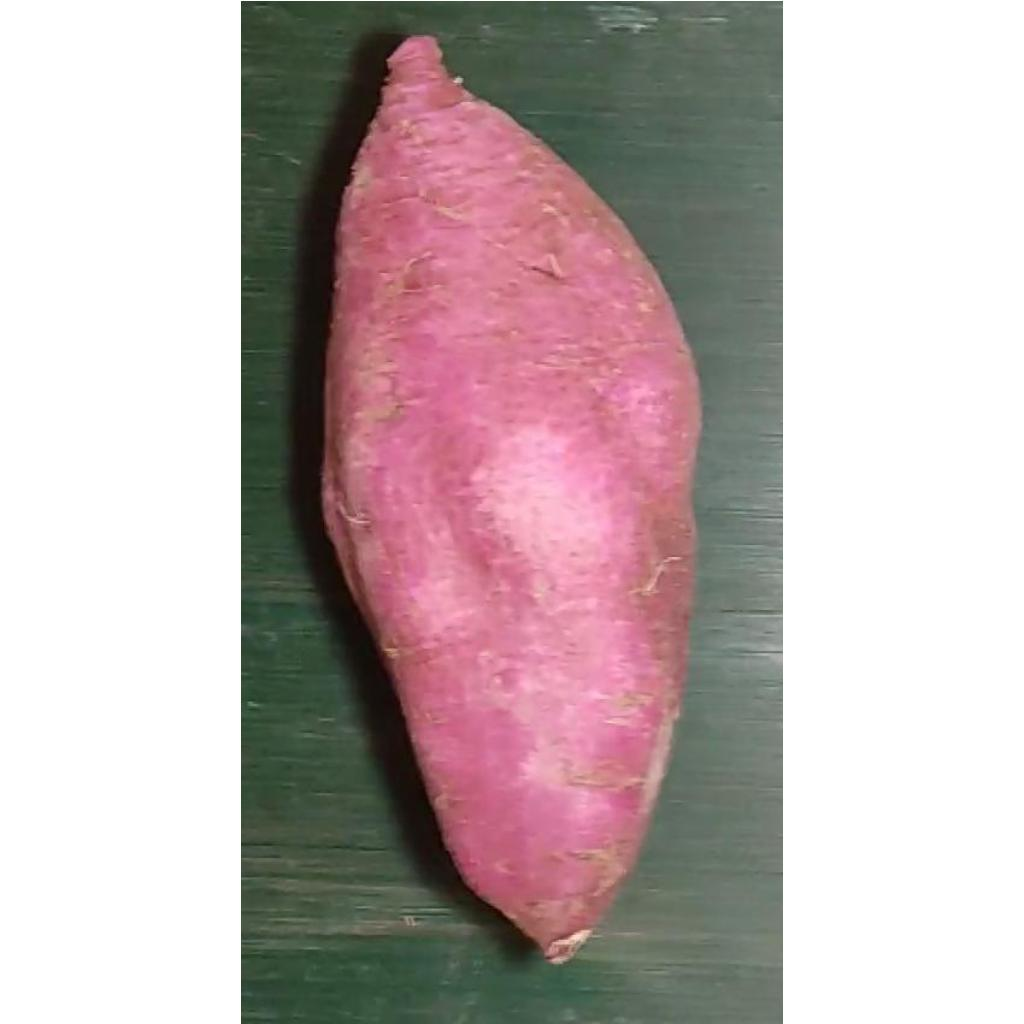Sweet Potato: (318, 34, 704, 965)
